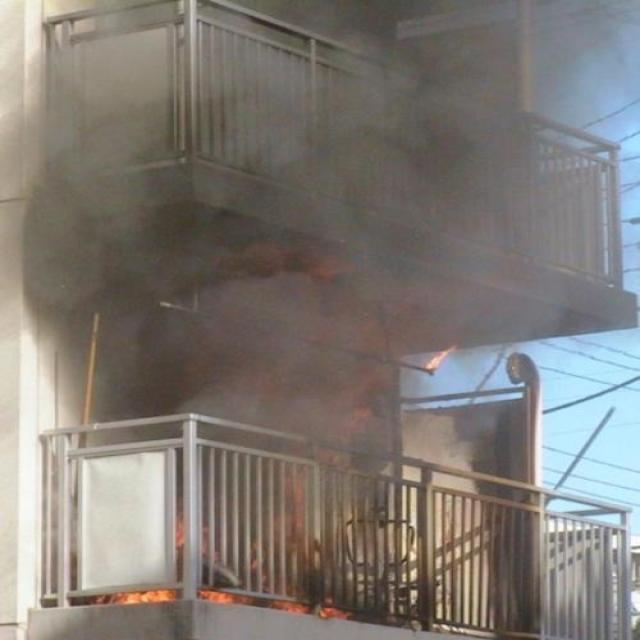Fire: (88, 585, 175, 609), (276, 596, 350, 620), (196, 584, 255, 607)
Smoke: (16, 1, 640, 506)
